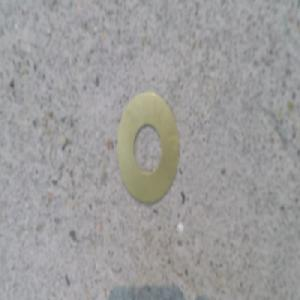Washer: (114, 90, 180, 204)
